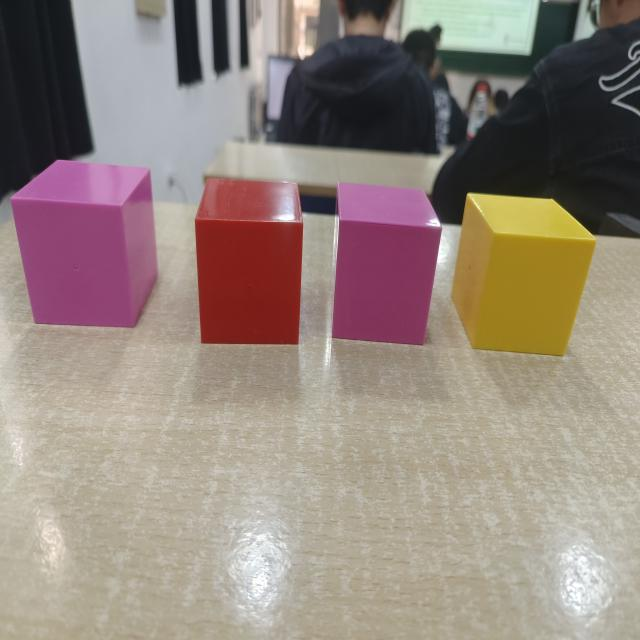pink: (9, 161, 158, 332), (330, 182, 441, 348)
red: (194, 177, 304, 347)
yellow: (451, 194, 597, 359)
